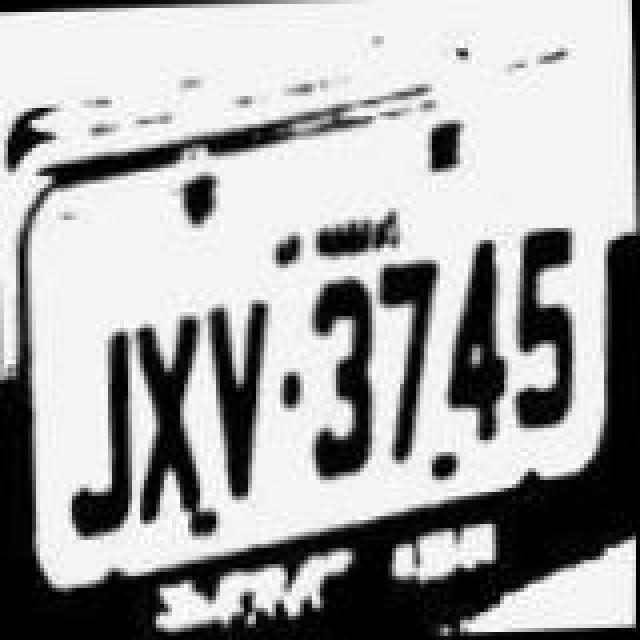3: (302, 276, 386, 488)
4: (430, 226, 510, 446)
5: (504, 210, 588, 454)
7: (372, 252, 444, 464)
J: (60, 308, 136, 540)
V: (200, 300, 280, 500)
X: (134, 296, 206, 520)
